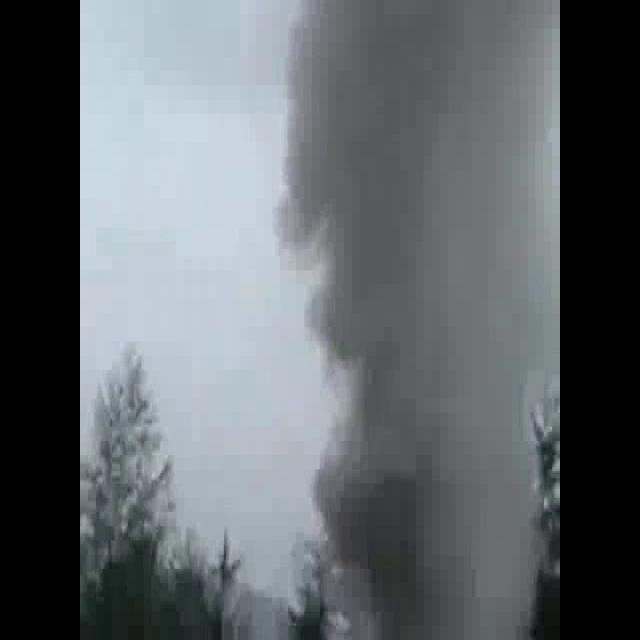Smoke: (270, 1, 560, 640)
